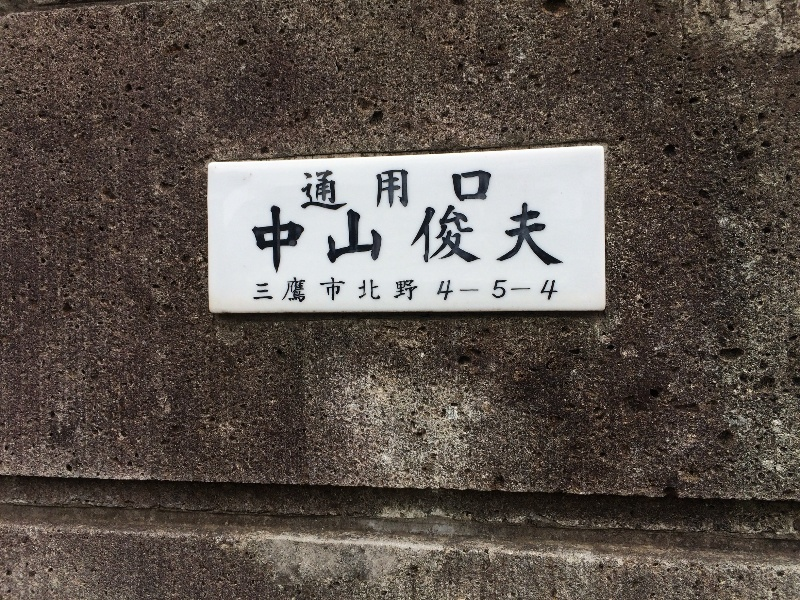text: (257, 203, 272, 275), (273, 203, 288, 275), (289, 203, 304, 275), (305, 203, 320, 275), (321, 203, 336, 275), (337, 203, 352, 275), (353, 203, 368, 275), (369, 203, 384, 275), (385, 203, 400, 275), (401, 203, 416, 275), (417, 203, 432, 275), (433, 203, 448, 275), (449, 203, 464, 275), (465, 203, 480, 275), (481, 203, 496, 275), (497, 203, 512, 275), (513, 203, 528, 275), (529, 203, 544, 275), (545, 203, 560, 275), (305, 168, 320, 214), (321, 168, 336, 214), (337, 168, 352, 214), (353, 168, 368, 214), (369, 168, 384, 214), (385, 168, 400, 214), (401, 168, 416, 214), (417, 168, 432, 214), (433, 168, 448, 214), (449, 168, 464, 214), (465, 168, 480, 214), (481, 168, 491, 214), (257, 277, 272, 305), (273, 277, 288, 305), (289, 277, 304, 305), (305, 277, 320, 305), (321, 277, 336, 305), (337, 277, 352, 305), (353, 277, 368, 305), (369, 277, 384, 305), (385, 277, 400, 305), (401, 277, 416, 305), (251, 203, 256, 275), (449, 280, 464, 302), (465, 280, 480, 302), (481, 280, 496, 302), (497, 280, 512, 302), (513, 280, 528, 302), (529, 280, 544, 302), (545, 280, 558, 302), (437, 280, 448, 302), (561, 203, 563, 275), (301, 168, 304, 214), (255, 277, 256, 305), (417, 277, 418, 305)
